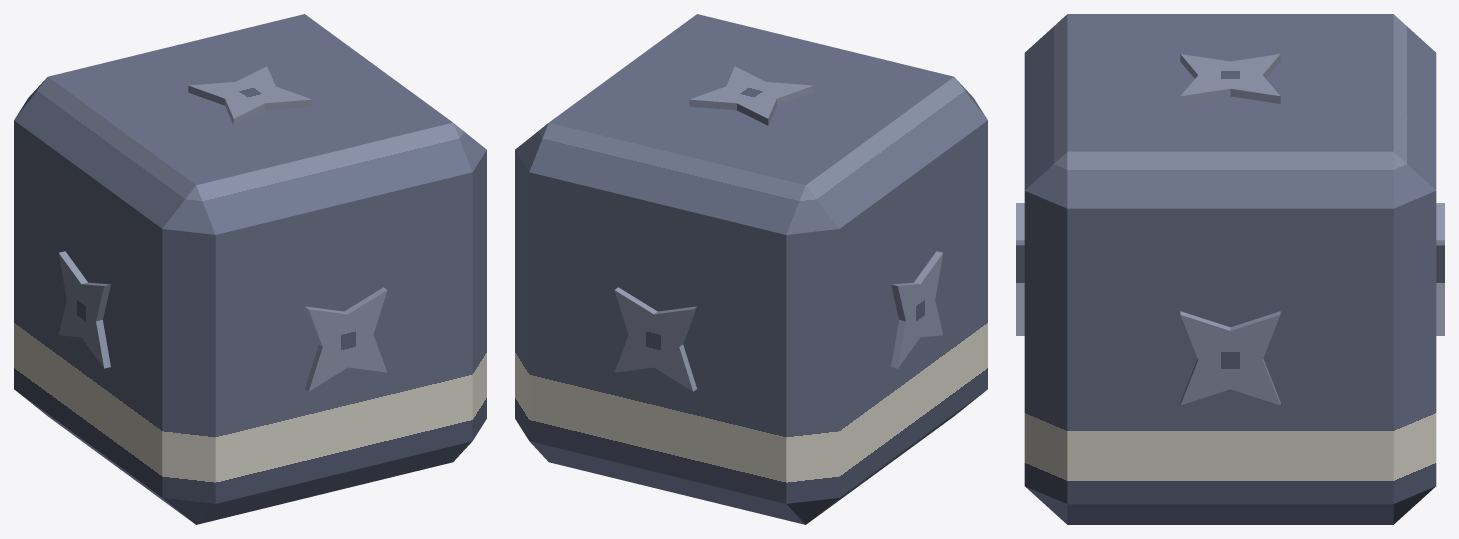
Rendered from armor_block.obj.
The picture shows the model from 3 angles, left to right: view 1: azimuth 30°, elevation 25°; view 2: azimuth 150°, elevation 25°; view 3: azimuth 270°, elevation 25°; orthographic projection. The views are drawn at different scales.
Visible parts, largest first — view 1: armor_block; view 2: armor_block; view 3: armor_block.
Part boxes in pixels (box(x1,y1,x2,y2)): armor_block: box(14, 14, 486, 524); armor_block: box(515, 14, 987, 524); armor_block: box(1016, 14, 1444, 524).
Size of the model in its own units: 1 by 1 by 1.
Materials: 1 (1 with a texture image).
